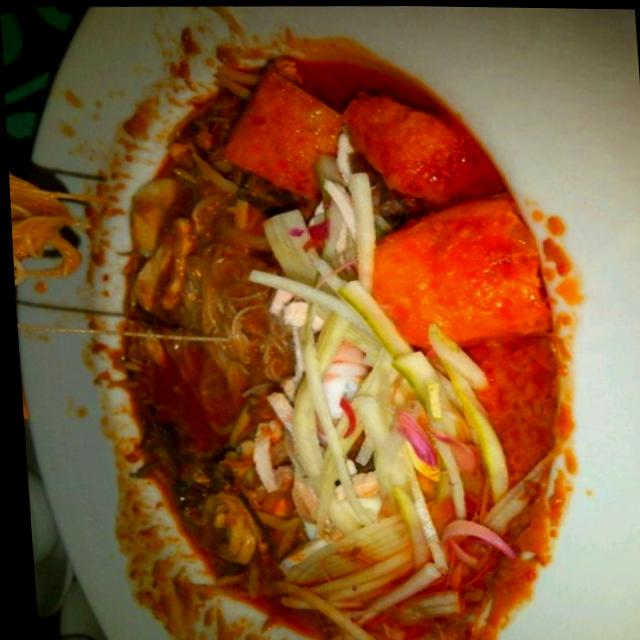面条主食: (72, 24, 597, 638)
